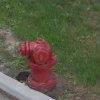Hydrant: (12, 28, 68, 97)
